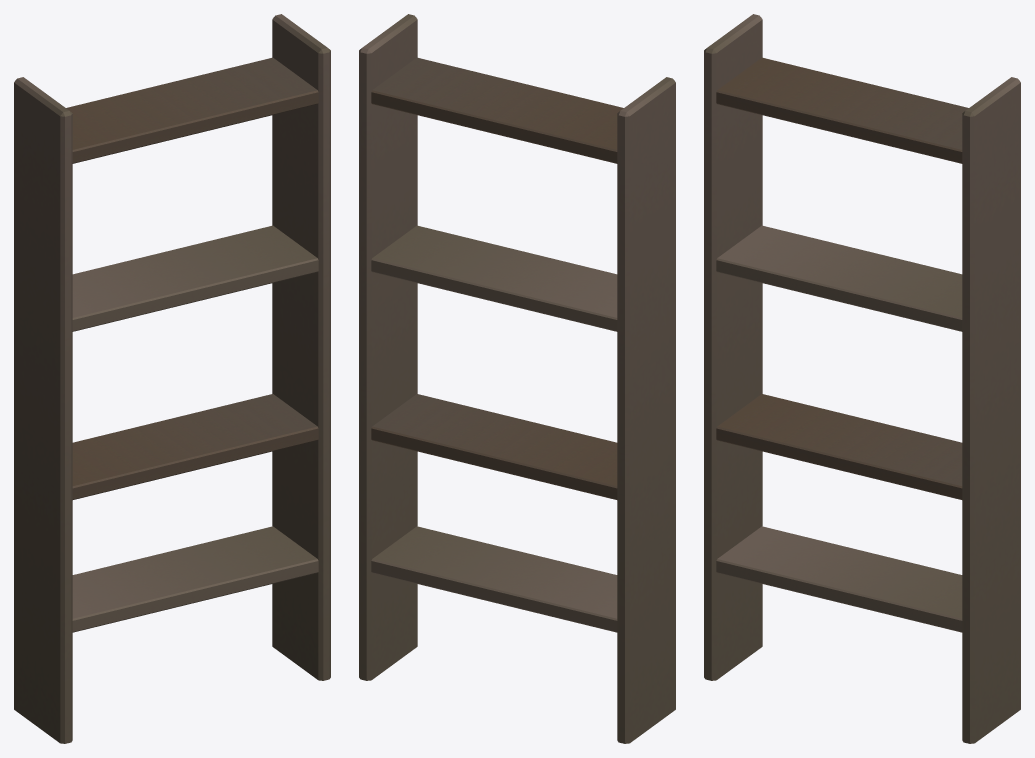
Rendered from Cupboard_2.fbx.
The picture shows the model from 3 angles, left to right: view 1: azimuth 30°, elevation 25°; view 2: azimuth 150°, elevation 25°; view 3: azimuth 330°, elevation 25°; orthographic projection.
Parts seen in each view (by area): view 1: pCube795; view 2: pCube795; view 3: pCube795.
Boxes of the visible parts, x1,y1,x2,y2 form: pCube795: (14, 14, 330, 743); pCube795: (359, 14, 675, 743); pCube795: (704, 14, 1020, 743).
Size of the model in its own units: 157 by 350 by 50.
